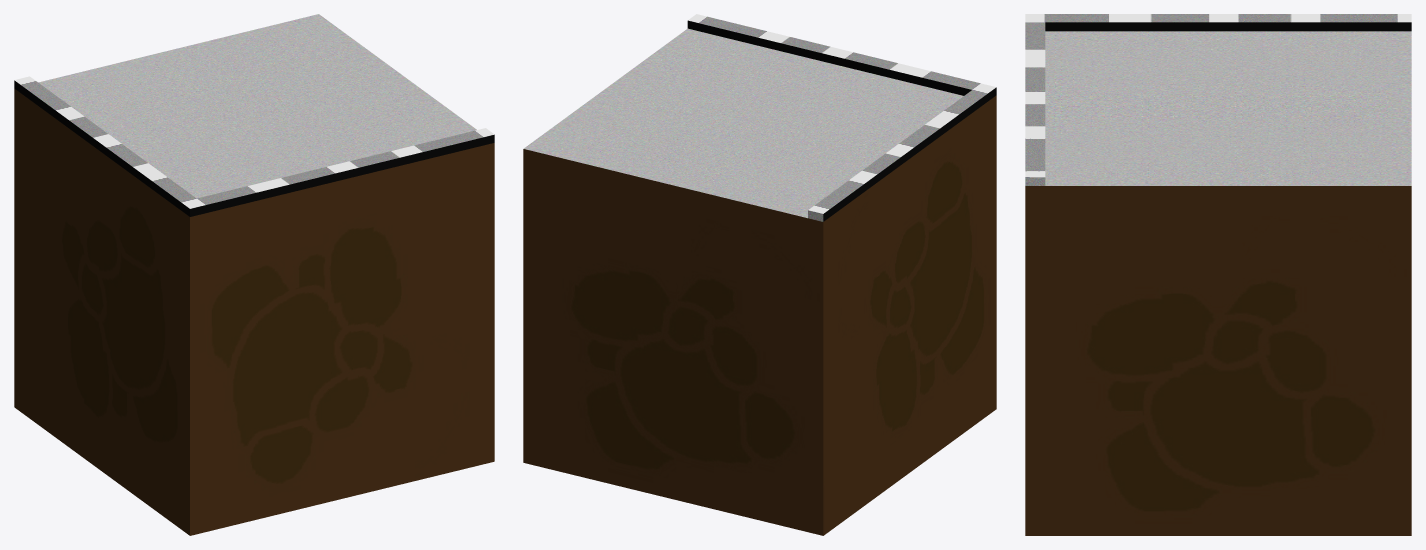
Rendered from LevelBlock_2.fbx.
3 renders of one model, left to right at view 1: azimuth 30°, elevation 25°; view 2: azimuth 150°, elevation 25°; view 3: azimuth 270°, elevation 25°, orthographic. The views are drawn at different scales.
Parts seen in each view (by area): view 1: Box005; view 2: Box005; view 3: Box005.
Boxes of the visible parts, x1,y1,x2,y2 form: Box005: [14, 14, 494, 535]; Box005: [523, 14, 996, 535]; Box005: [1025, 14, 1411, 535].
Size of the model in its own units: 39.01 by 39 by 40.
Materials: 1 (1 with a texture image).
